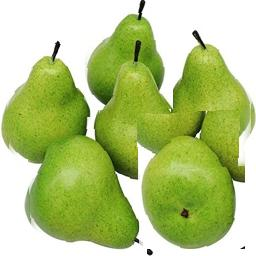Pear Fresh: (26, 117, 147, 256), (138, 113, 246, 249), (172, 13, 256, 170), (5, 37, 97, 180), (97, 29, 182, 182), (80, 0, 173, 110)
